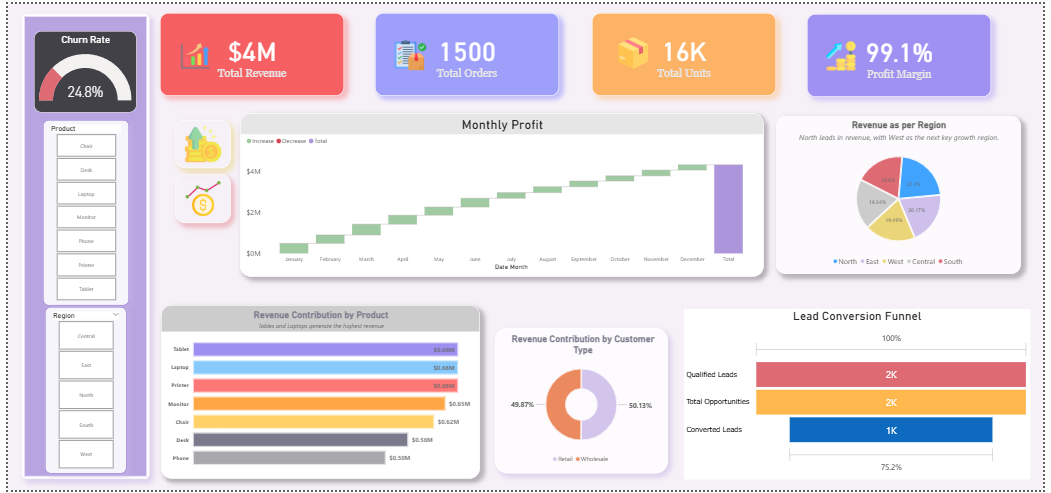

The dashboard page shown, as its layout file describes it:
{"tool":"powerbi","page":{"name":"Page 1","canvas":[2300,1080],"ordinal":0},"visuals":[{"type":"card","fields":{"Values":["Sales.Total Revenue"]},"box":[338.6,20.5,409.1,184.1],"z":0},{"type":"image","box":[338.6,77.3,156.8,75],"z":1000},{"type":"card","fields":{"Values":["Sales.Total Orders"]},"box":[815.9,20.5,409.1,184.1],"z":2000},{"type":"image","box":[843.2,72.7,104.5,79.5],"z":3000},{"type":"card","fields":{"Values":["Sales.Total Units"]},"box":[1297.7,20.5,409.1,184.1],"z":4000},{"type":"image","box":[1313.6,68.2,152.3,79.5],"z":5000},{"type":"card","fields":{"Values":["Sales.Profit Margin"]},"box":[1775,22.7,409.1,184.1],"z":6000},{"type":"image","box":[1804.5,77.3,93.2,75],"z":7000},{"type":"barChart","title":"Revenue Contribution by Product","fields":{"Category":["Sales.Product"],"Y":["Sales.Total Revenue"]},"box":[339.5,669.8,709.3,386],"z":8000},{"type":"funnel","title":"Lead Conversion Funnel","fields":{"Category":["Stage.Stages"],"Y":["Sales.Funnel Value"]},"box":[1502.3,676.7,769.8,379.1],"z":9000},{"type":"donutChart","title":"Revenue Contribution by Customer Type","fields":{"Y":["Sales.Total Revenue"],"Category":["Sales.CustomerType"]},"box":[1081.4,720.9,383.7,323.3],"z":11000},{"type":"pieChart","title":" Revenue as per Region","fields":{"Category":["Sales.Region"],"Y":["Sales.Total Revenue"]},"box":[1706.7,248.9,544.4,351.1],"z":12000},{"type":"waterfallChart","title":"Monthly Profit","fields":{"Category":["Sales.Date.Variation.Date Hierarchy.Month"],"Y":["Sales.Total Profit"]},"box":[515.6,242.2,1164.4,364.4],"z":13000},{"type":"image","title":"Profit","box":[371.1,257.8,124.4,106.7],"z":14000},{"type":"image","title":"Sales","box":[371.1,377.8,124.4,108.9],"z":15000},{"type":"shape","box":[30,22.5,282.5,1032.5],"z":16000},{"type":"gauge","fields":{"Y":["Sales.Churn Rate"]},"box":[58.1,60.5,227.9,181.4],"z":18000},{"type":"slicer","fields":{"Values":["Sales.Product"]},"box":[76.7,258.1,190.7,411.6],"z":19000},{"type":"slicer","fields":{"Values":["Sales.Region"]},"box":[81.4,674.4,181.4,369.8],"z":19001}]}

Visuals, with their boxes in screenshot pixels (x1, y1, x2, y2), scaled from the page's 2300x1080 canvas onto the 1051x493 screenshot:
card - Sales.Total Revenue: [155,9,342,93]
image: [155,35,226,70]
card - Sales.Total Orders: [373,9,560,93]
image: [385,33,433,69]
card - Sales.Total Units: [593,9,780,93]
image: [600,31,670,67]
card - Sales.Profit Margin: [811,10,998,94]
image: [825,35,867,70]
"Revenue Contribution by Product" barChart: [155,306,479,482]
"Lead Conversion Funnel" funnel: [686,309,1038,482]
"Revenue Contribution by Customer Type" donutChart: [494,329,669,477]
" Revenue as per Region" pieChart: [780,114,1029,274]
"Monthly Profit" waterfallChart: [236,111,768,277]
"Profit" image: [170,118,226,166]
"Sales" image: [170,172,226,222]
shape: [14,10,143,482]
gauge - Sales.Churn Rate: [27,28,131,110]
slicer - Sales.Product: [35,118,122,306]
slicer - Sales.Region: [37,308,120,477]
